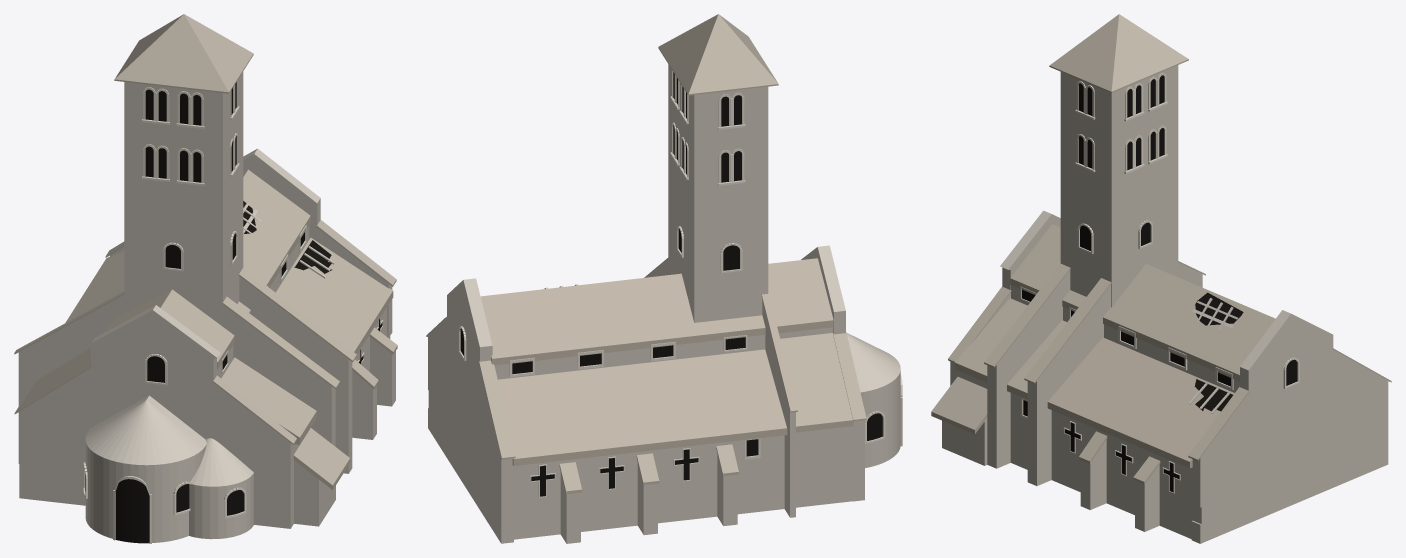
The model's file is cathedral_clay.glb.
3 renders of one model, left to right at view 1: azimuth 30°, elevation 25°; view 2: azimuth 150°, elevation 25°; view 3: azimuth 270°, elevation 25°, orthographic. The views are drawn at different scales.
Visible parts, largest first — view 1: walls, roofs, openings, frames; view 2: walls, roofs, frames, openings; view 3: walls, roofs, openings, frames.
Boxes of the visible parts, x1,y1,x2,y2 form: walls: [18, 72, 395, 542]; roofs: [14, 14, 397, 489]; openings: [85, 82, 382, 543]; frames: [83, 80, 383, 543]; walls: [428, 64, 900, 543]; roofs: [426, 14, 866, 493]; frames: [458, 70, 902, 497]; openings: [460, 72, 882, 496]; walls: [942, 65, 1388, 543]; roofs: [931, 14, 1391, 484]; openings: [1022, 75, 1297, 491]; frames: [1020, 73, 1299, 493].
Size of the model in its own units: 15.02 by 15.6 by 15.64.
